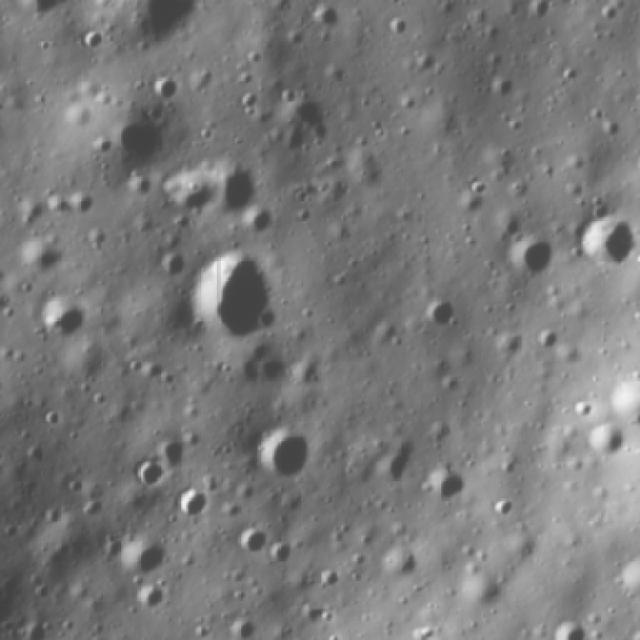crater: (182, 242, 288, 342), (102, 102, 166, 172), (249, 422, 314, 484), (577, 211, 637, 271), (266, 89, 328, 145), (166, 163, 226, 219), (229, 336, 291, 387), (34, 290, 92, 342), (114, 530, 168, 582), (504, 234, 562, 281), (372, 433, 422, 485), (600, 372, 640, 432), (18, 234, 70, 278), (456, 570, 509, 612), (421, 462, 470, 507), (583, 419, 631, 464), (374, 542, 424, 582), (418, 289, 459, 329), (272, 124, 316, 158), (154, 436, 195, 472), (173, 486, 213, 522), (148, 72, 188, 108), (232, 524, 273, 559), (449, 184, 489, 219), (125, 462, 170, 493), (611, 555, 640, 602), (546, 615, 597, 640), (484, 69, 519, 105), (488, 212, 524, 246), (306, 0, 342, 34), (14, 193, 49, 227), (319, 59, 353, 92), (227, 607, 258, 640), (17, 614, 55, 640), (134, 586, 168, 614), (264, 538, 294, 568), (64, 192, 98, 218), (79, 26, 107, 54), (300, 599, 331, 624), (381, 15, 412, 39), (414, 49, 440, 77), (232, 91, 262, 115), (598, 115, 620, 143), (42, 408, 63, 434), (0, 459, 9, 492), (623, 631, 640, 640), (0, 335, 3, 371)
